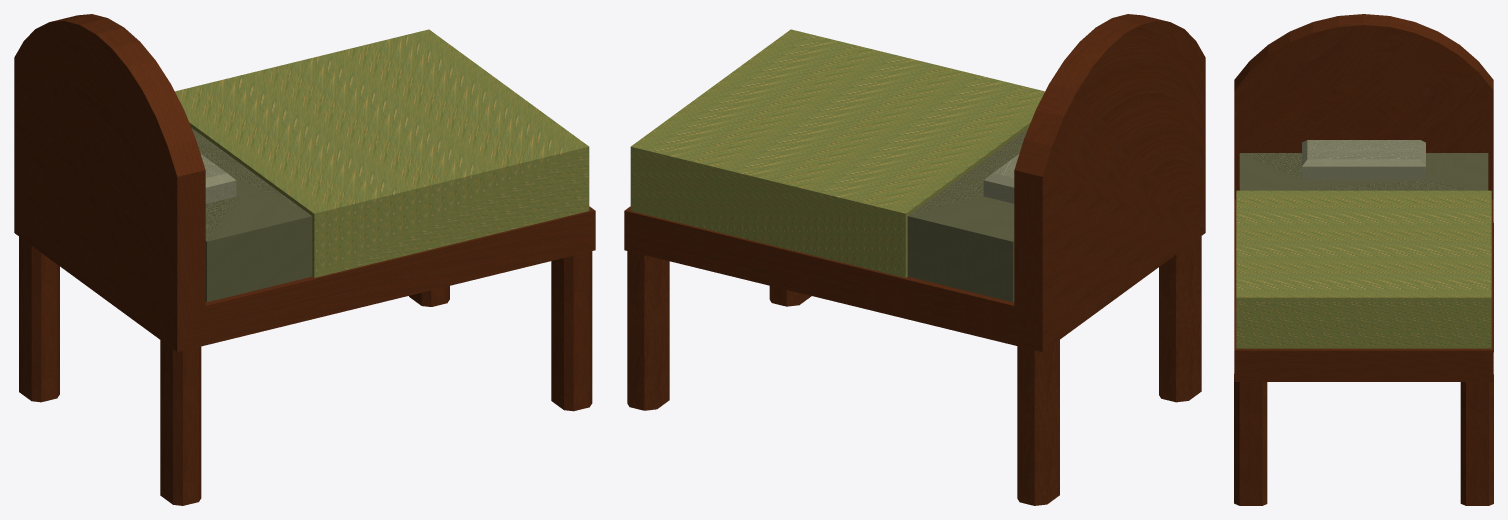
Rendered from cpt.3ds.glb.
The picture shows the model from 3 angles, left to right: view 1: azimuth 30°, elevation 25°; view 2: azimuth 150°, elevation 25°; view 3: azimuth 270°, elevation 25°; orthographic projection. The views are drawn at different scales.
Parts seen in each view (by area): view 1: Model, leg1, leg4, leg2; view 2: Model, leg2, leg3, leg1; view 3: Model, leg3, leg4.
Part boxes in pixels (bbox=[...]): Model: bbox=[14, 14, 595, 352]; leg1: bbox=[160, 340, 201, 505]; leg4: bbox=[551, 251, 592, 411]; leg2: bbox=[19, 236, 59, 402]; Model: bbox=[624, 14, 1205, 352]; leg2: bbox=[1017, 340, 1059, 505]; leg3: bbox=[627, 251, 669, 410]; leg1: bbox=[1159, 236, 1201, 402]; Model: bbox=[1234, 14, 1493, 381]; leg3: bbox=[1460, 374, 1493, 505]; leg4: bbox=[1234, 374, 1267, 505].
Bounding box in the file's own units: 0.2144 × 0.2027 × 0.1448.
8 materials, 8 textured.
